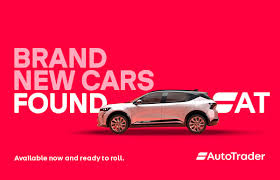car: (97, 87, 224, 135)
